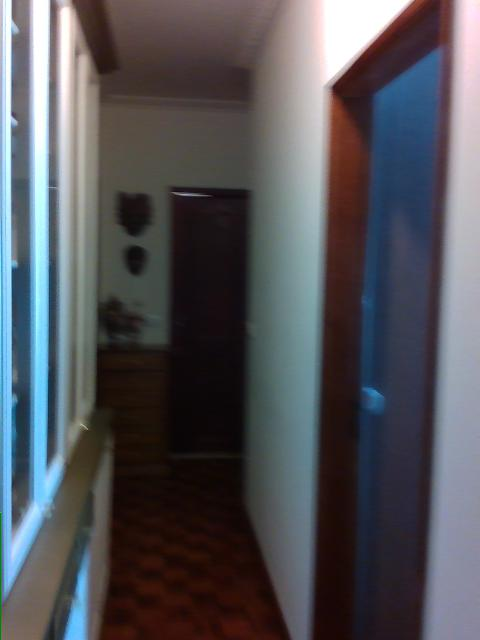door: (317, 1, 454, 637), (168, 186, 252, 465)
